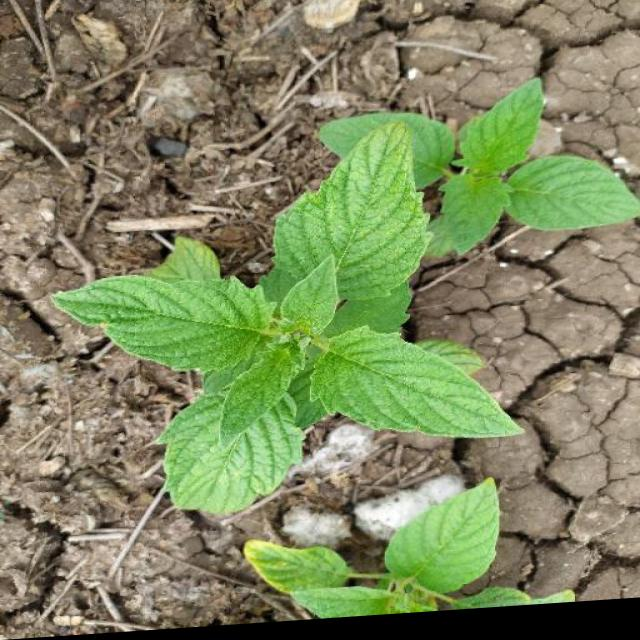crop: (49, 116, 538, 524), (215, 477, 583, 626)
